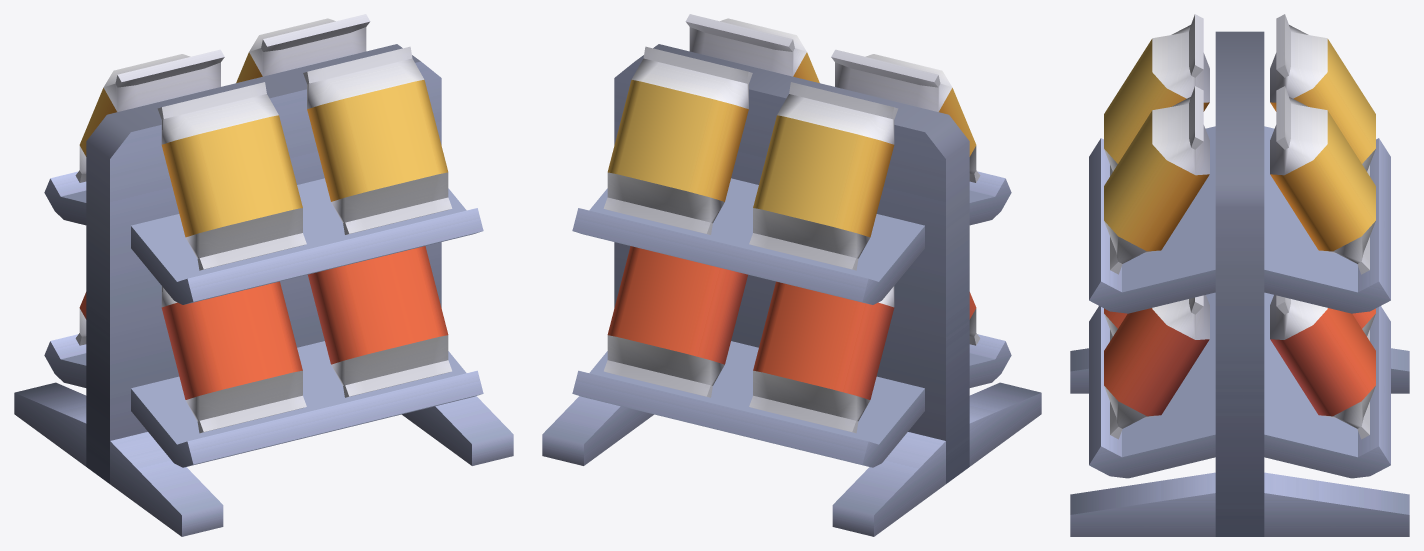
The model's file is kenney-mini-market-shelf-bags.glb.
3 renders of one model, left to right at view 1: azimuth 30°, elevation 25°; view 2: azimuth 150°, elevation 25°; view 3: azimuth 270°, elevation 25°, orthographic.
Visible parts, largest first — view 1: bag (×6), shelf-bags; view 2: bag (×6), shelf-bags; view 3: shelf-bags, bag (×6).
Boxes of the visible parts, box(x1,y1,x2,y2) form: bag (×6): box(75, 14, 452, 433); shelf-bags: box(14, 44, 513, 536); bag (×6): box(603, 14, 980, 433); shelf-bags: box(542, 44, 1041, 536); shelf-bags: box(1070, 31, 1409, 536); bag (×6): box(1104, 14, 1375, 439).
Bounding box in the file's own units: 0.8 × 0.8634 × 0.7.
1 material, 1 textured.
